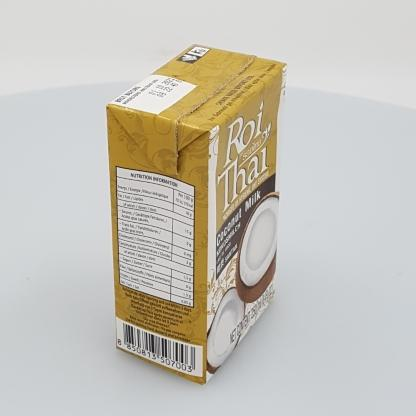-------------: (105, 43, 288, 385)
